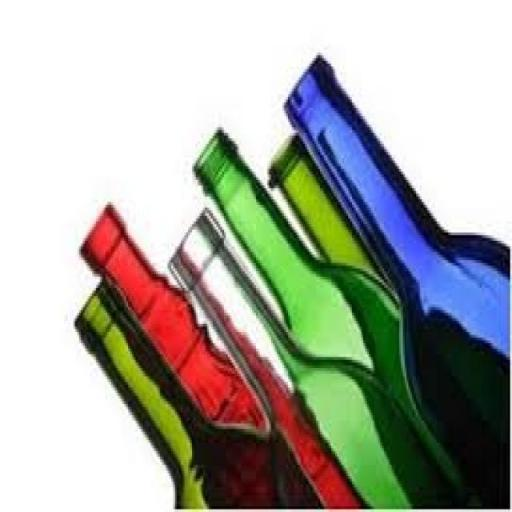glass: (282, 33, 512, 490), (195, 121, 406, 512), (82, 196, 320, 512), (80, 254, 314, 508), (166, 199, 330, 466), (255, 94, 375, 346)
